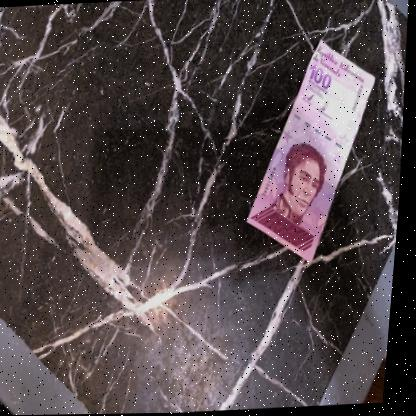one_hundred-front-vef: (240, 36, 386, 267)
